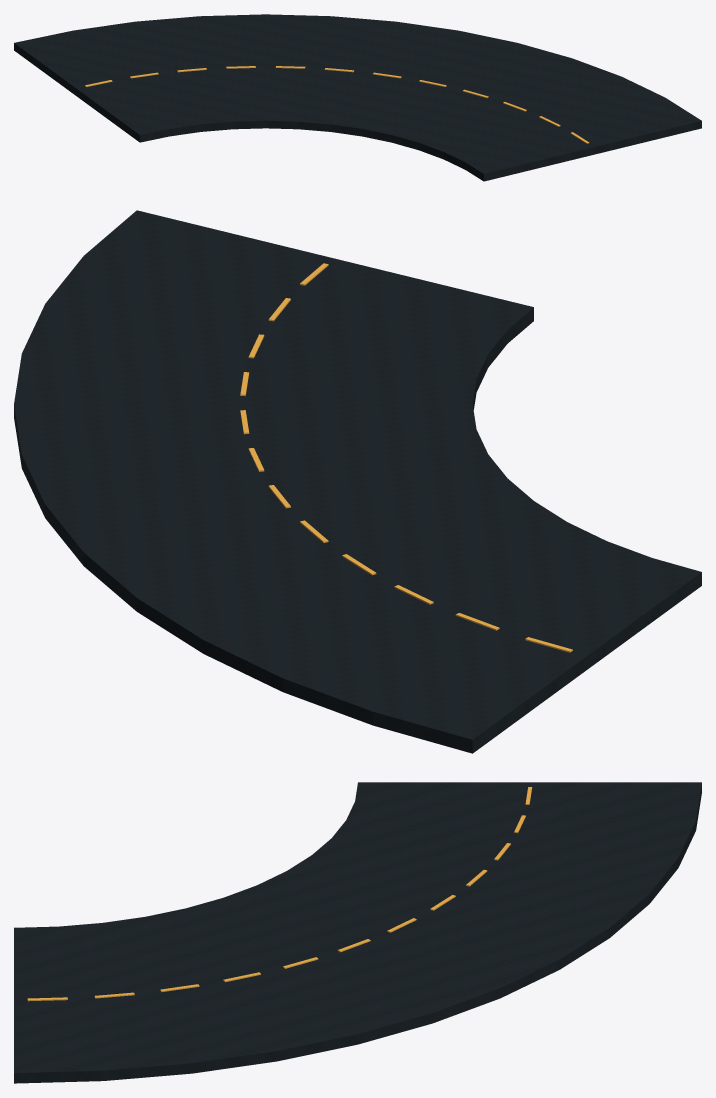
Rendered from Road_Curve90_R9m.glb.
3 views of the same model, one above another, from view 1: azimuth 30°, elevation 25°; view 2: azimuth 150°, elevation 25°; view 3: azimuth 270°, elevation 25° (orthographic). The views are drawn at different scales.
Visible parts, largest first — view 1: Road_Curve90_R9m_ArcSurface, Road_Curve90_R9m_CenterMarkings; view 2: Road_Curve90_R9m_ArcSurface, Road_Curve90_R9m_CenterMarkings; view 3: Road_Curve90_R9m_ArcSurface, Road_Curve90_R9m_CenterMarkings.
Boxes of the visible parts, x1=… form: Road_Curve90_R9m_ArcSurface: x1=14, y1=14, x2=701, y2=181; Road_Curve90_R9m_CenterMarkings: x1=85, y1=66, x2=589, y2=143; Road_Curve90_R9m_ArcSurface: x1=14, y1=210, x2=701, y2=753; Road_Curve90_R9m_CenterMarkings: x1=240, y1=263, x2=572, y2=652; Road_Curve90_R9m_ArcSurface: x1=14, y1=782, x2=701, y2=1083; Road_Curve90_R9m_CenterMarkings: x1=27, y1=787, x2=532, y2=1001.
Bounding box in the file's own units: 12 × 0.224 × 12.
2 materials, 1 textured.
